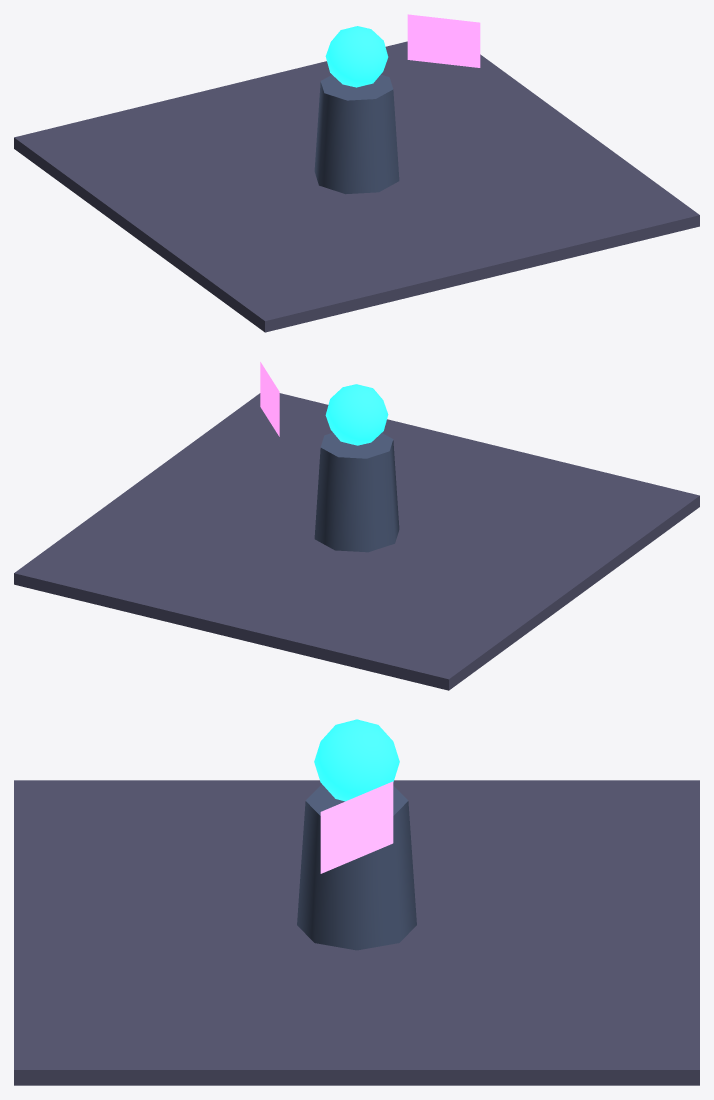
The model's file is sample-room.glb.
3 renders of one model, top to bottom at view 1: azimuth 30°, elevation 25°; view 2: azimuth 150°, elevation 25°; view 3: azimuth 270°, elevation 25°, orthographic. The views are drawn at different scales.
Visible parts, largest first — view 1: floor, pedestal, holo_panel, cyber_orb; view 2: floor, pedestal, cyber_orb, holo_panel; view 3: floor, pedestal, cyber_orb, holo_panel.
Part boxes in pixels (x1=…): floor: x1=14, y1=41, x2=699, y2=332; pedestal: x1=314, y1=74, x2=399, y2=194; holo_panel: x1=407, y1=14, x2=480, y2=67; cyber_orb: x1=325, y1=26, x2=388, y2=87; floor: x1=14, y1=393, x2=699, y2=690; pedestal: x1=314, y1=432, x2=399, y2=552; cyber_orb: x1=325, y1=384, x2=388, y2=445; holo_panel: x1=260, y1=362, x2=279, y2=436; floor: x1=14, y1=780, x2=699, y2=1085; pedestal: x1=297, y1=785, x2=416, y2=950; cyber_orb: x1=314, y1=719, x2=399, y2=801; holo_panel: x1=320, y1=781, x2=393, y2=873.
Size of the model in its own units: 4 by 1.4 by 4.
